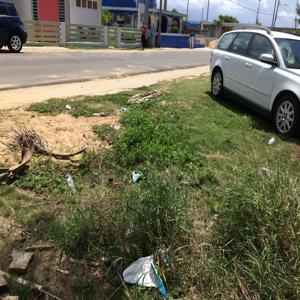plastic: (121, 246, 177, 298), (63, 169, 81, 196), (130, 169, 147, 183)
plastic bottle: (264, 131, 279, 149)
